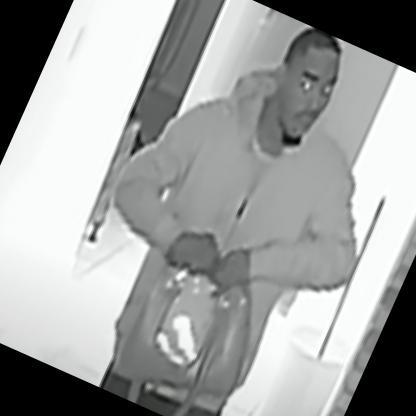Human Body: (37, 0, 415, 415)
